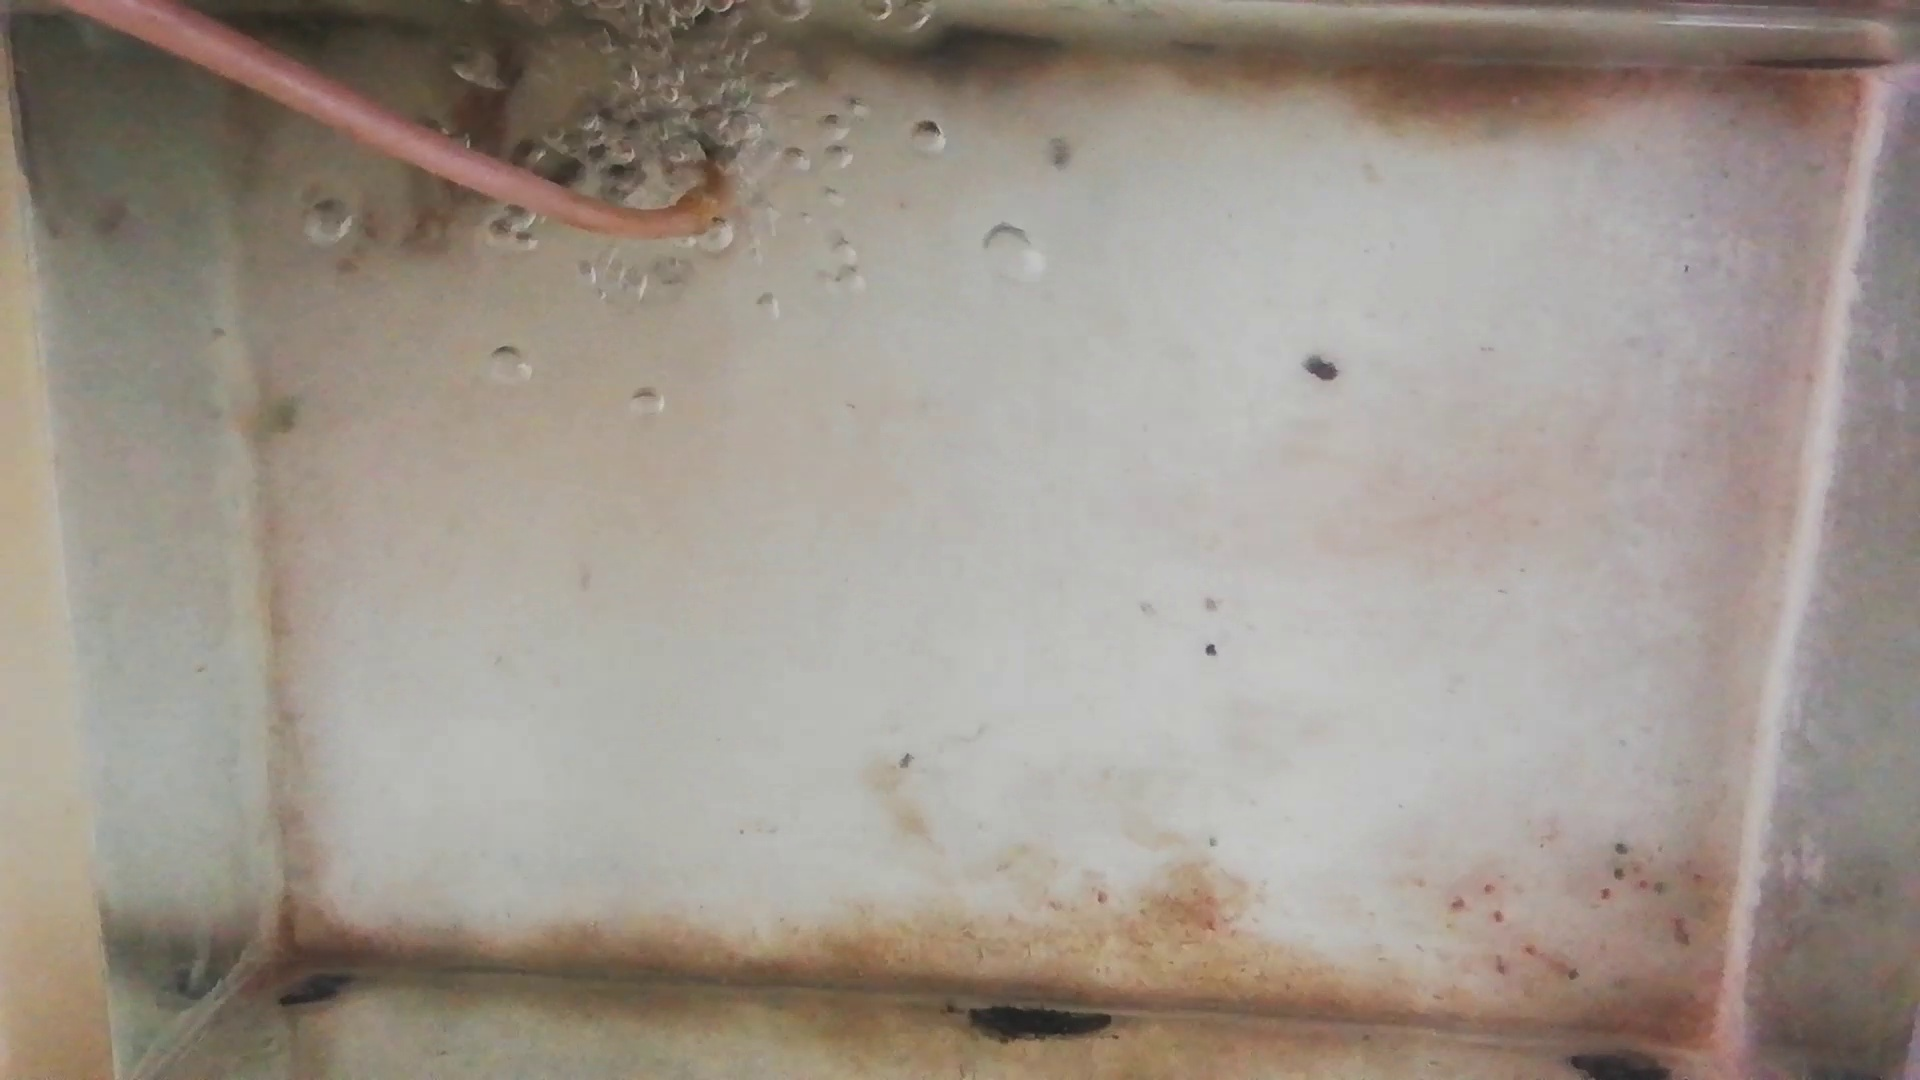fish: (446, 36, 509, 243), (521, 117, 645, 186)
